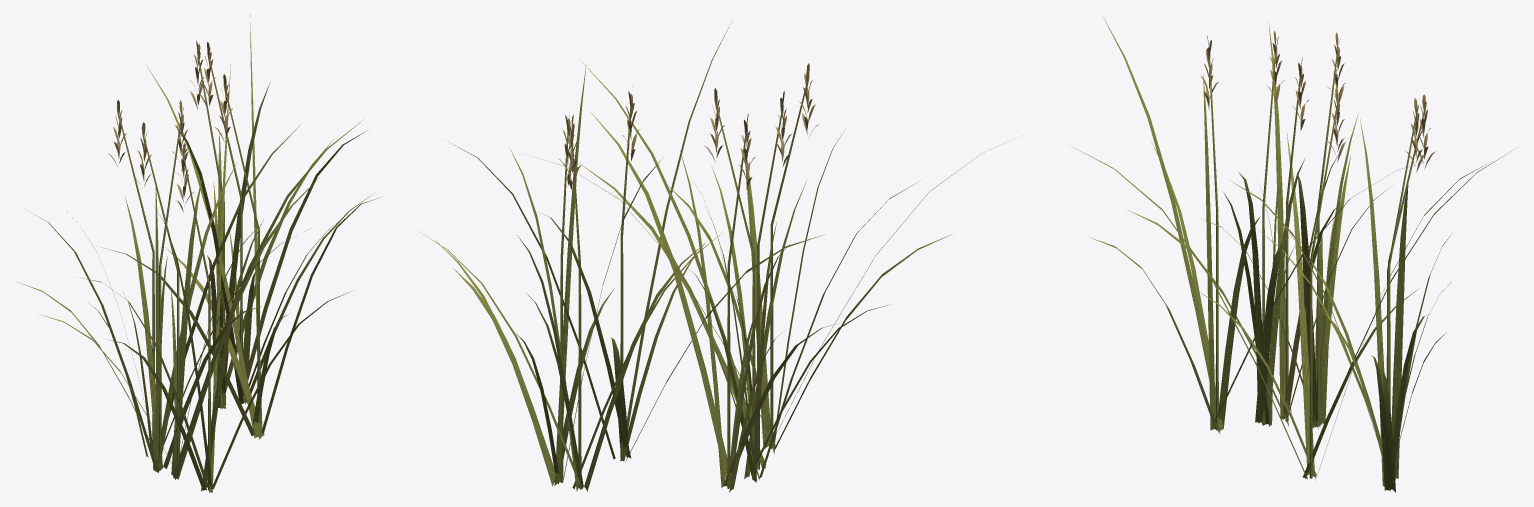
Rendered from TuftedHairgrass_B.fbx.
The picture shows the model from 3 angles, left to right: view 1: azimuth 30°, elevation 25°; view 2: azimuth 150°, elevation 25°; view 3: azimuth 270°, elevation 25°; orthographic projection. The views are drawn at different scales.
Visible parts, largest first — view 1: TuftedHairgrass_B_LOD0; view 2: TuftedHairgrass_B_LOD0; view 3: TuftedHairgrass_B_LOD0.
Boxes of the visible parts, box(x1,y1,x2,y2) form: TuftedHairgrass_B_LOD0: box(15, 14, 380, 492); TuftedHairgrass_B_LOD0: box(420, 20, 1017, 492); TuftedHairgrass_B_LOD0: box(1073, 18, 1512, 492).
Size of what is drawn, in the model's own units: 64.26 by 51.75 by 55.71.
Materials: 1 (1 with a texture image).
